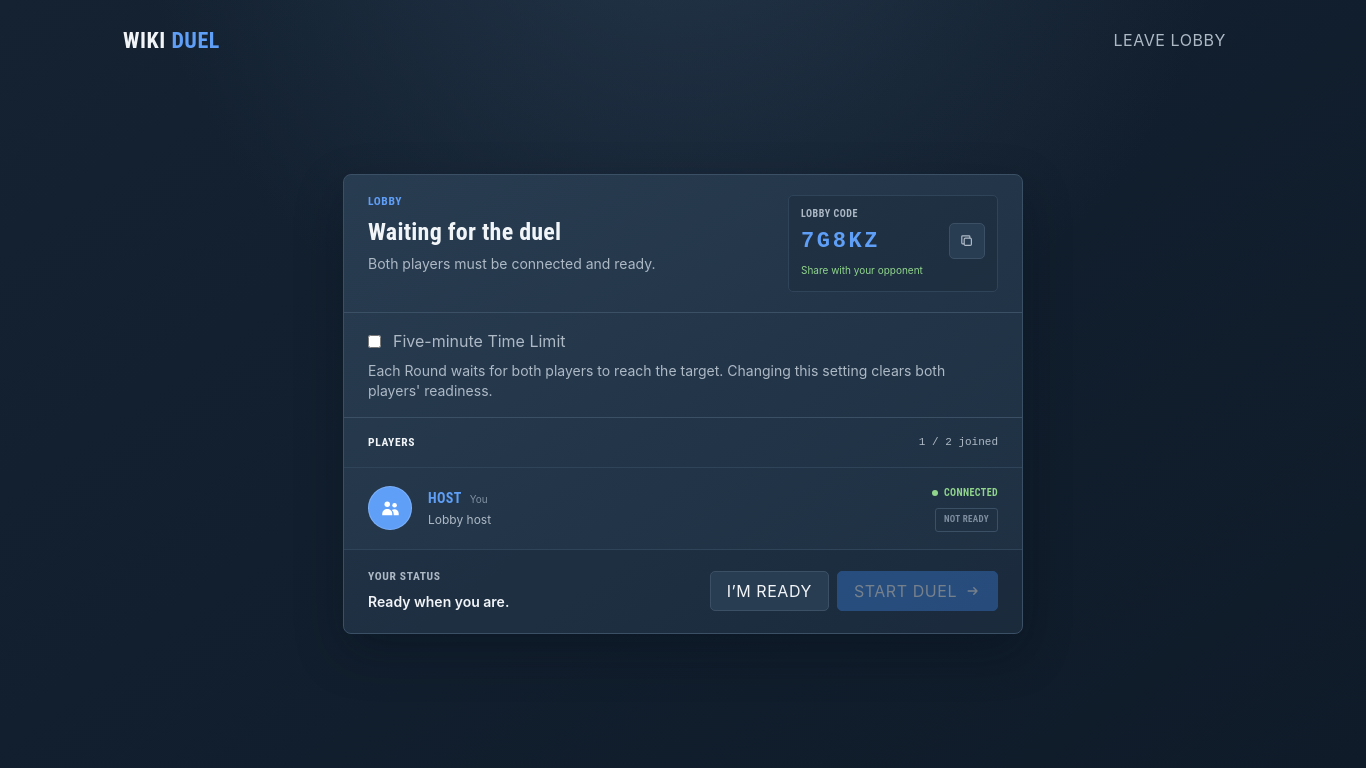
Scenario: shows the Host Time Limit toggle and sends a setting change
Click the checkbox labelled "Five-minute Time Limit": coordinates (374, 341) [368,335,381,348]
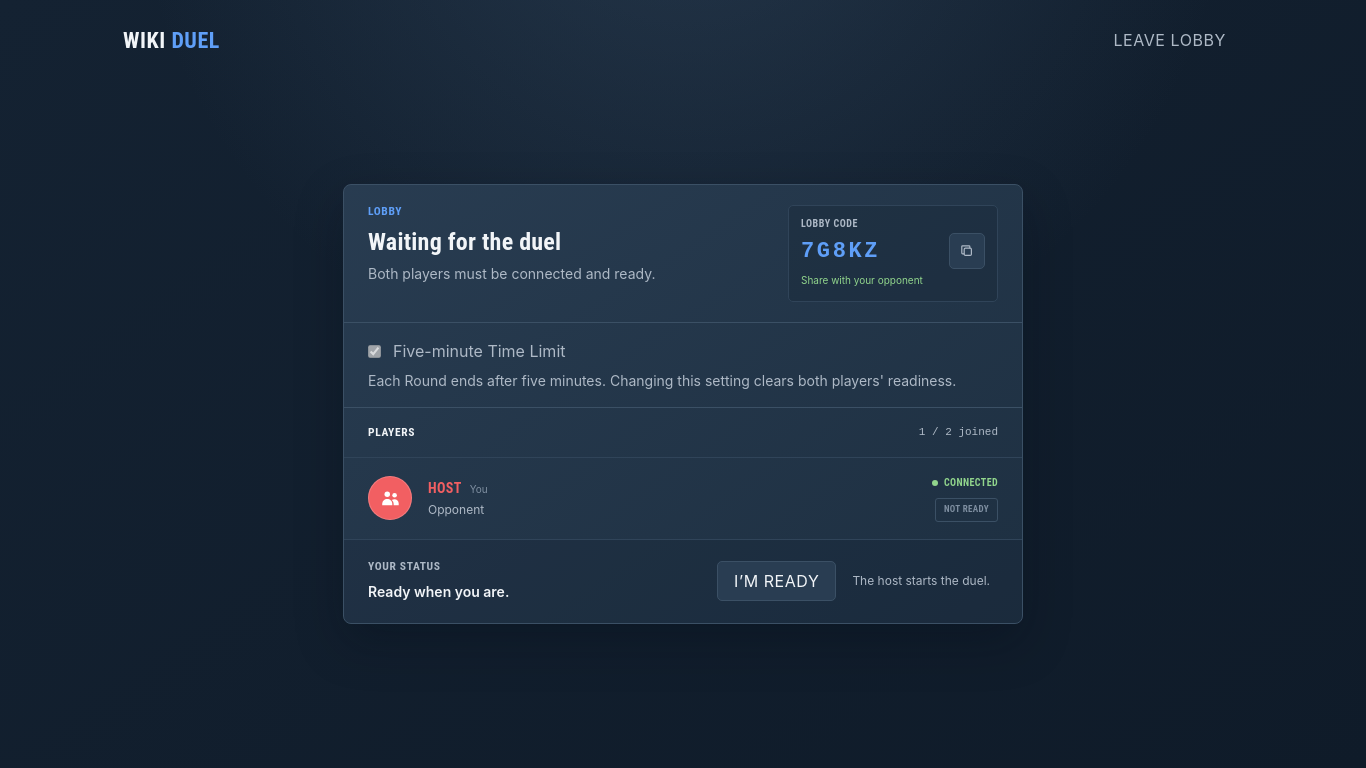
Check: the checkbox labelled "Five-minute Time Limit" is checked, box [368,345,381,358]
Check: the checkbox labelled "Five-minute Time Limit" is disabled, box [368,345,381,358]
